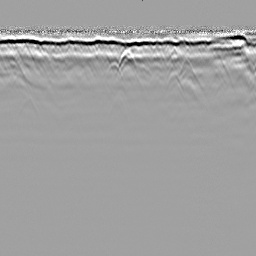cavity: (118, 46, 137, 66)
